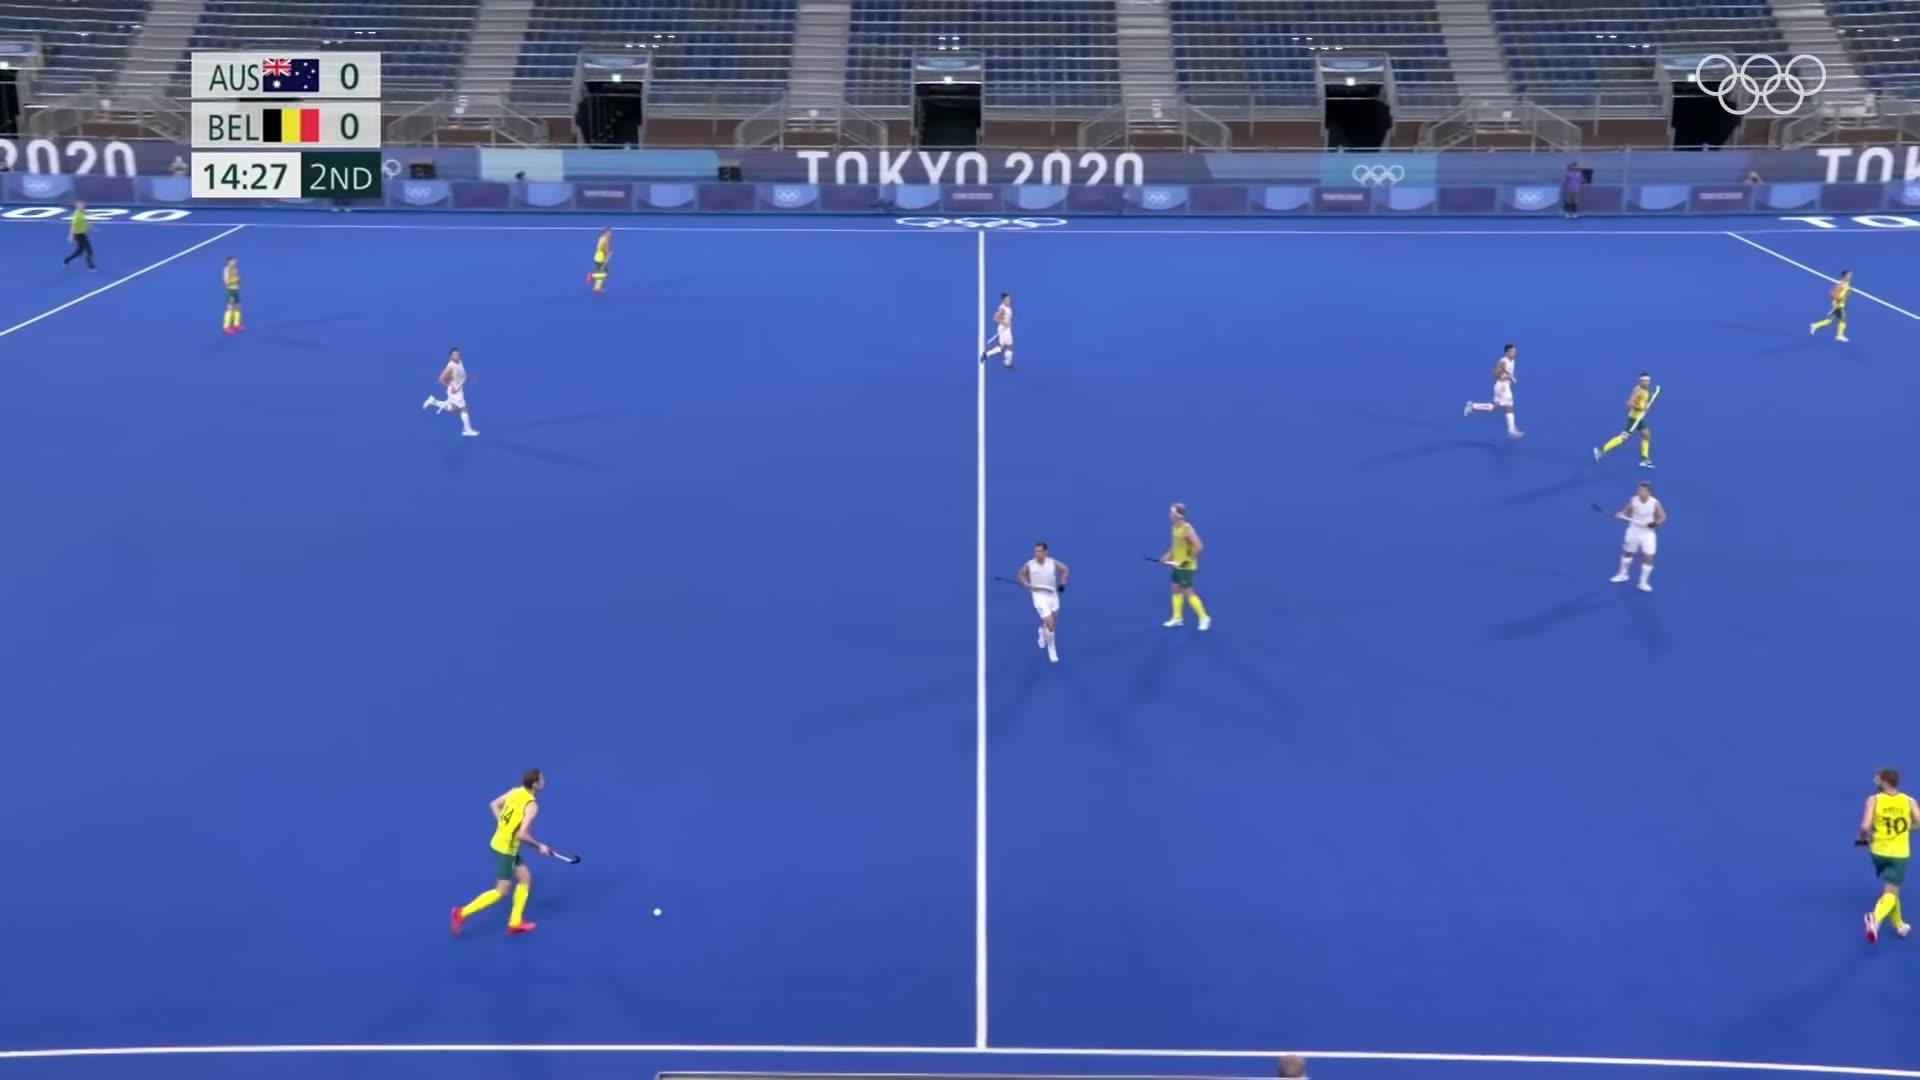ball: (647, 901, 666, 927)
